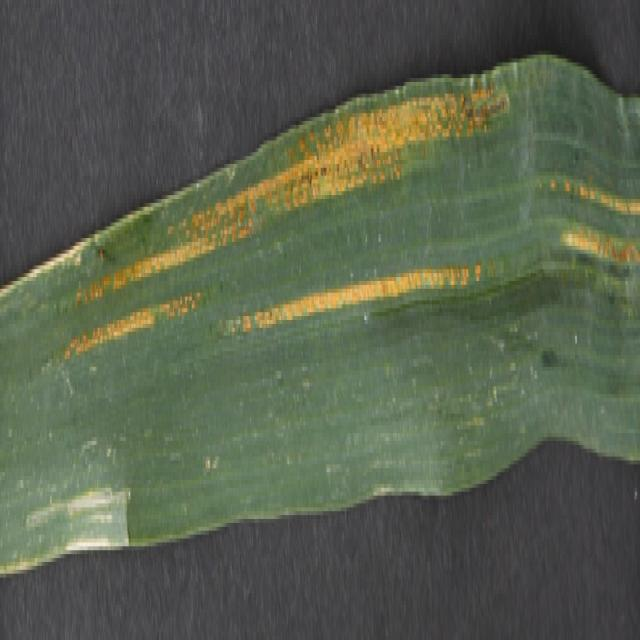leaf rust: (70, 55, 500, 418), (546, 129, 640, 324)
